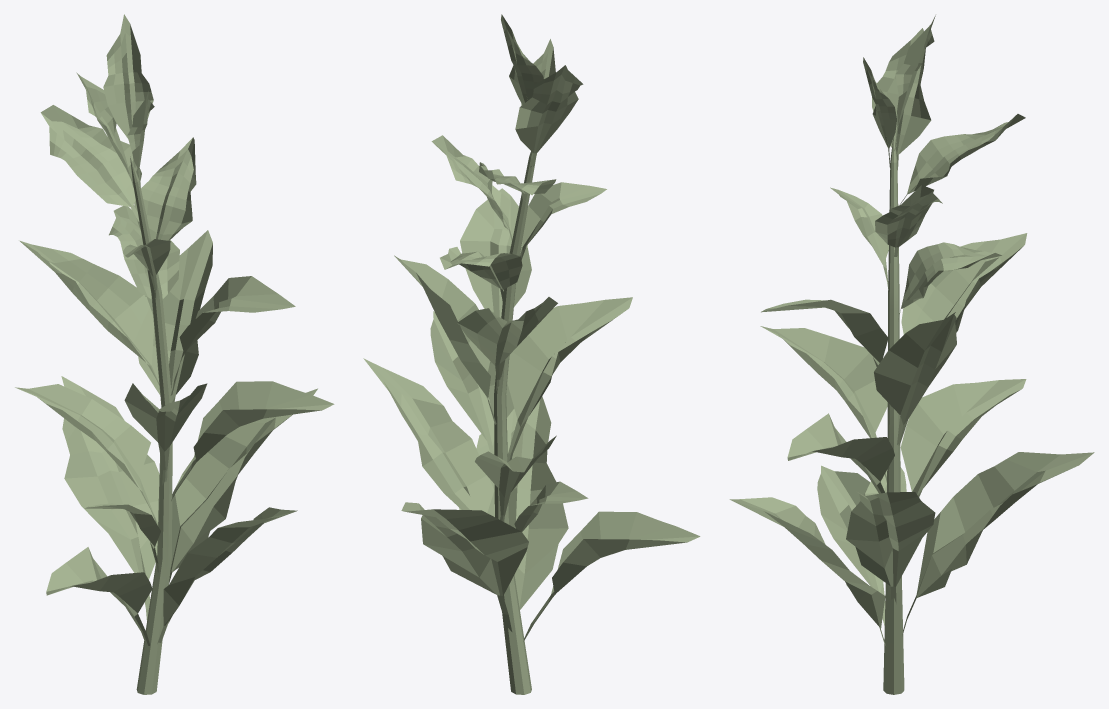
The model's file is sage plant.gltf.
The picture shows the model from 3 angles, left to right: view 1: azimuth 30°, elevation 25°; view 2: azimuth 150°, elevation 25°; view 3: azimuth 270°, elevation 25°; orthographic projection. The views are drawn at different scales.
Visible parts, largest first — view 1: sage plant; view 2: sage plant; view 3: sage plant.
Boxes of the visible parts, <box> form: sage plant: <box>15,14,334,694</box>; sage plant: <box>363,14,700,694</box>; sage plant: <box>729,15,1094,694</box>.
Size of the model in its own units: 1.54 by 3.29 by 1.61.
